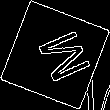M_SW: (23, 24, 87, 86)
